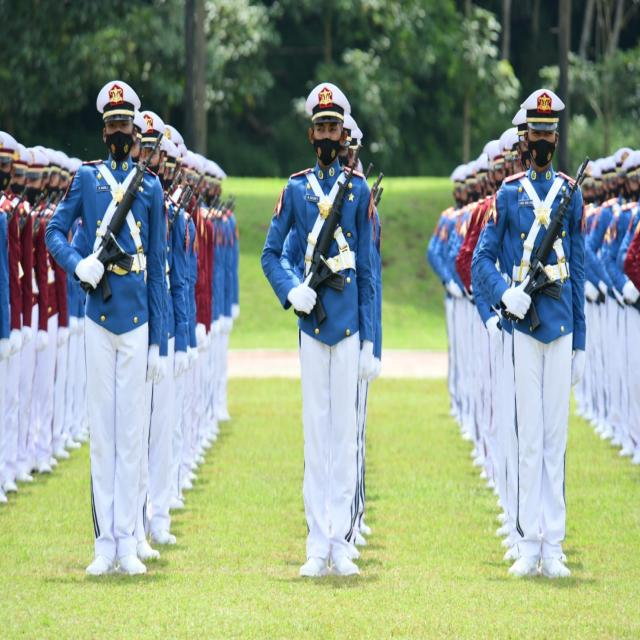peserta: (273, 74, 402, 629), (490, 108, 597, 606), (44, 67, 143, 597), (123, 93, 169, 595), (148, 104, 182, 544)
